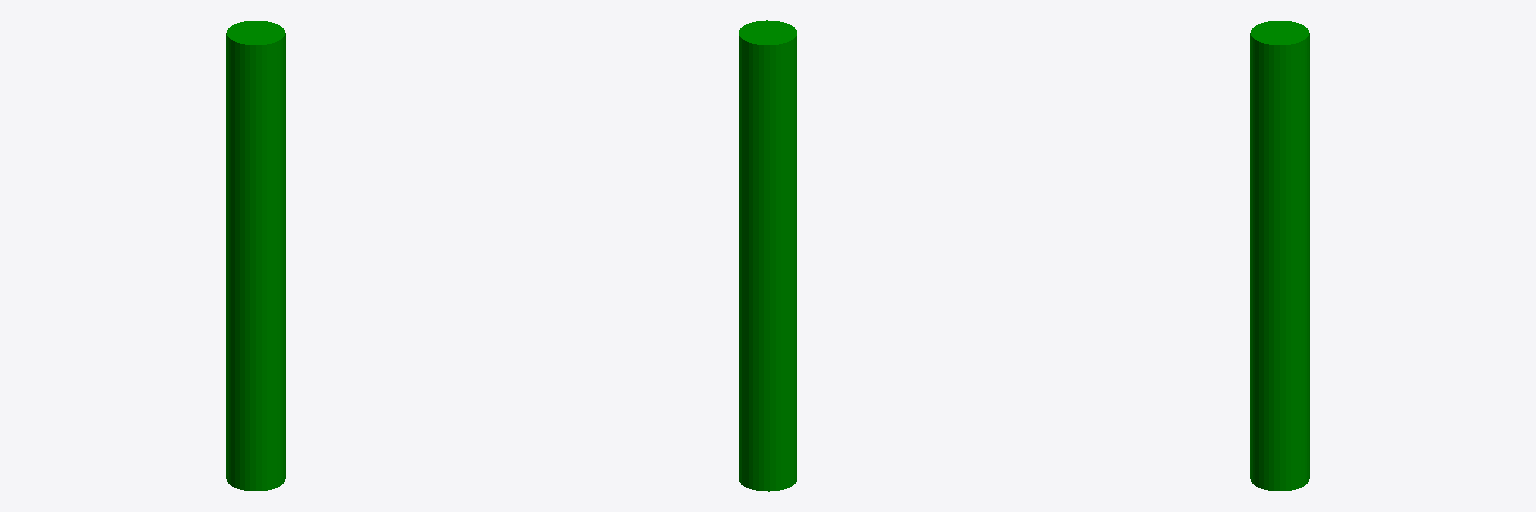
The robot description file, URDF, robot "tree_cylinder":
<?xml version="1.0" ?>
<robot name="tree_cylinder">
    <link name="body">
    <inertial>
      <origin xyz="0 0 0" rpy="0 0 0"/>
      <mass value="0.1"/>
      <inertia ixx="1" ixy="0" ixz="0" iyy="1" iyz="0" izz="1"/>
    </inertial>
    <!-- Visual representation of the cube (0.3m x 0.3m x 0.3m) -->
    <visual>
      <origin xyz="0 0 0" rpy="0 0 0"/>
      <geometry>
        <cylinder radius="0.3" length="5.0"/>
      </geometry>
      <material name="brown">
        <color rgba="0 0.6 0 1"/>
      </material>
    </visual>
    <!-- Collision representation of the cube (0.3m x 0.3m x 0.3m) -->
    <collision>
      <origin xyz="0 0 0" rpy="0 0 0"/>
      <geometry>
        <cylinder radius="0.3" length="5.0"/>
      </geometry>
    </collision>    
    <!-- Contact properties (optional, e.g., friction) --> 
    <contact>
      <lateral_friction value="1.0"/>
      <rolling_friction value="0.0"/>
      <restitution value="0.0"/>
    </contact>
  </link>
</robot>  

--- Facts derived from the render (not from the file) ---
The picture shows the robot from 3 angles, left to right: view 1: azimuth 90°, elevation 25°; view 2: azimuth 150°, elevation 25°; view 3: azimuth 270°, elevation 25°; orthographic projection.
Robot: tree_cylinder — 1 links, 0 joints (none); root link body; default pose: every joint at zero.
Links seen in each view (by area): view 1: body; view 2: body; view 3: body.
Link boxes in pixels (box(x1,y1,x2,y2)): body: box(226, 21, 285, 490); body: box(739, 20, 796, 491); body: box(1250, 21, 1309, 490).
Bounding box of the posed robot: 0.6 × 0.6 × 5 m (x, y, z).
Geometry: primitives only (box / cylinder / sphere), no mesh files.
